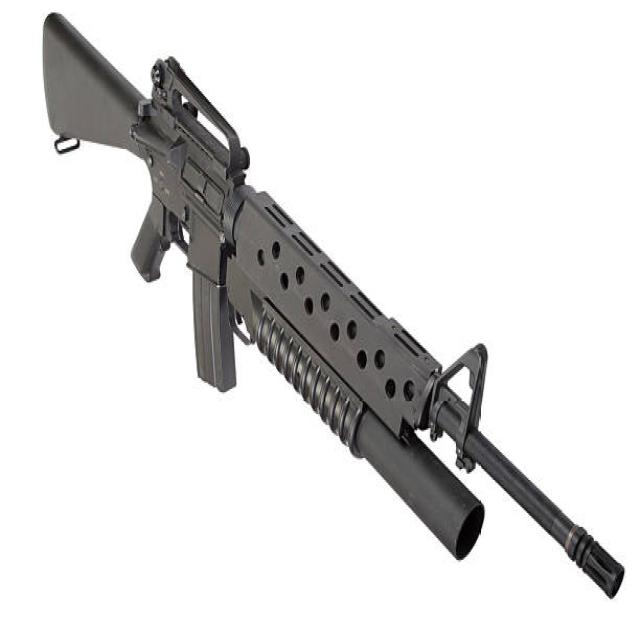rifle: (34, 9, 631, 604)
